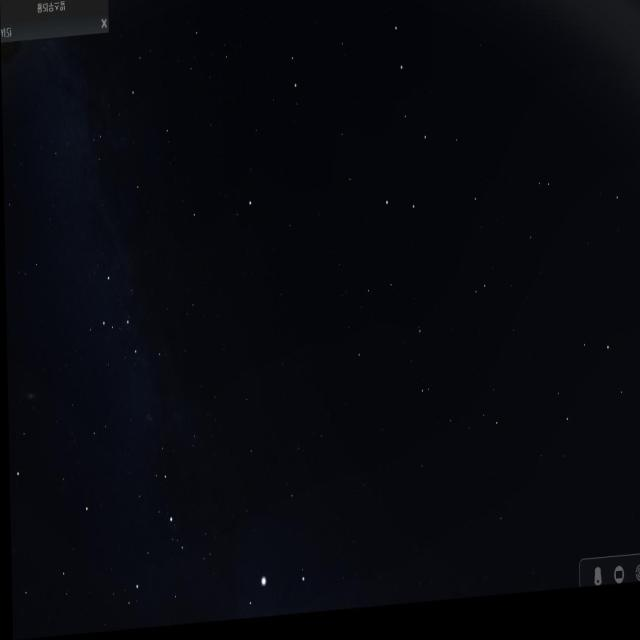ursa_major: (372, 0, 448, 236)
